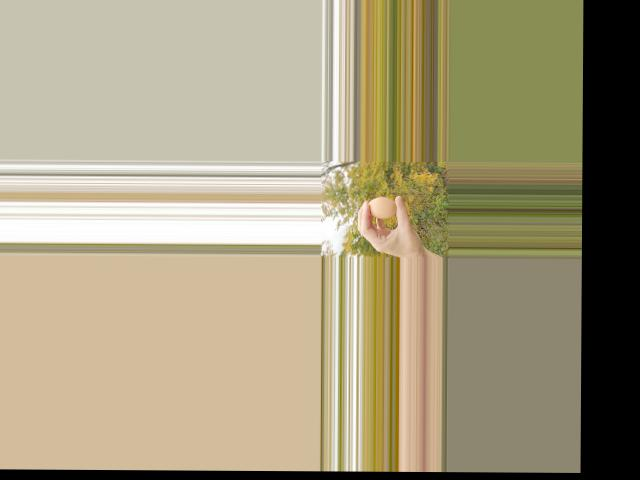egg: (367, 196, 396, 218)
